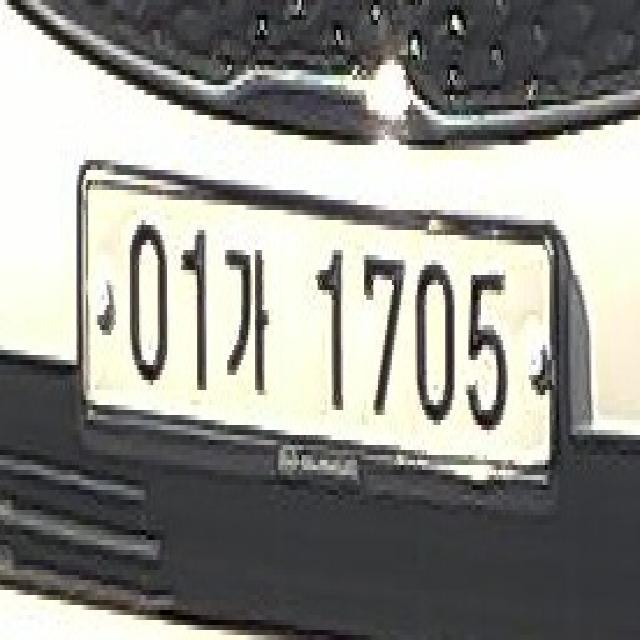0: (414, 250, 456, 440), (128, 212, 170, 392)
1: (178, 218, 212, 408), (316, 232, 348, 432)
5: (458, 258, 520, 446)
7: (354, 238, 411, 442)
ga: (219, 232, 275, 417)
license_plate: (70, 148, 572, 518)
